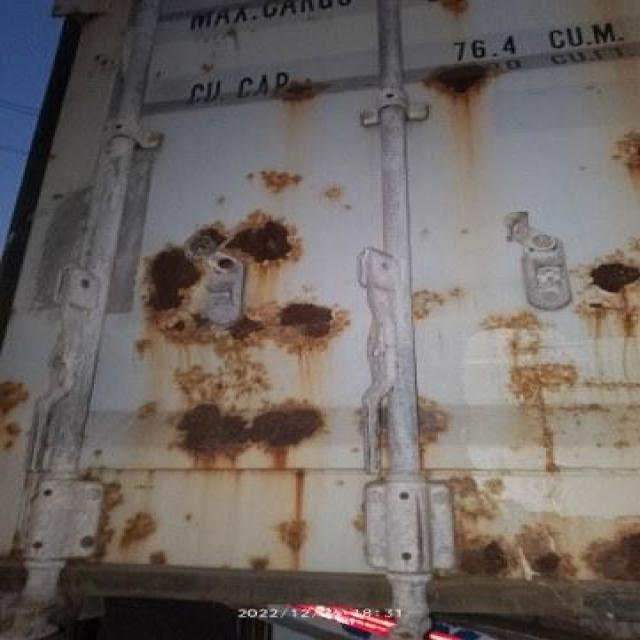rust: (198, 416, 324, 462), (155, 229, 210, 319), (467, 533, 525, 583), (595, 527, 640, 579), (432, 69, 494, 103), (580, 263, 640, 298), (290, 303, 340, 343), (276, 80, 331, 104), (226, 230, 295, 248)
